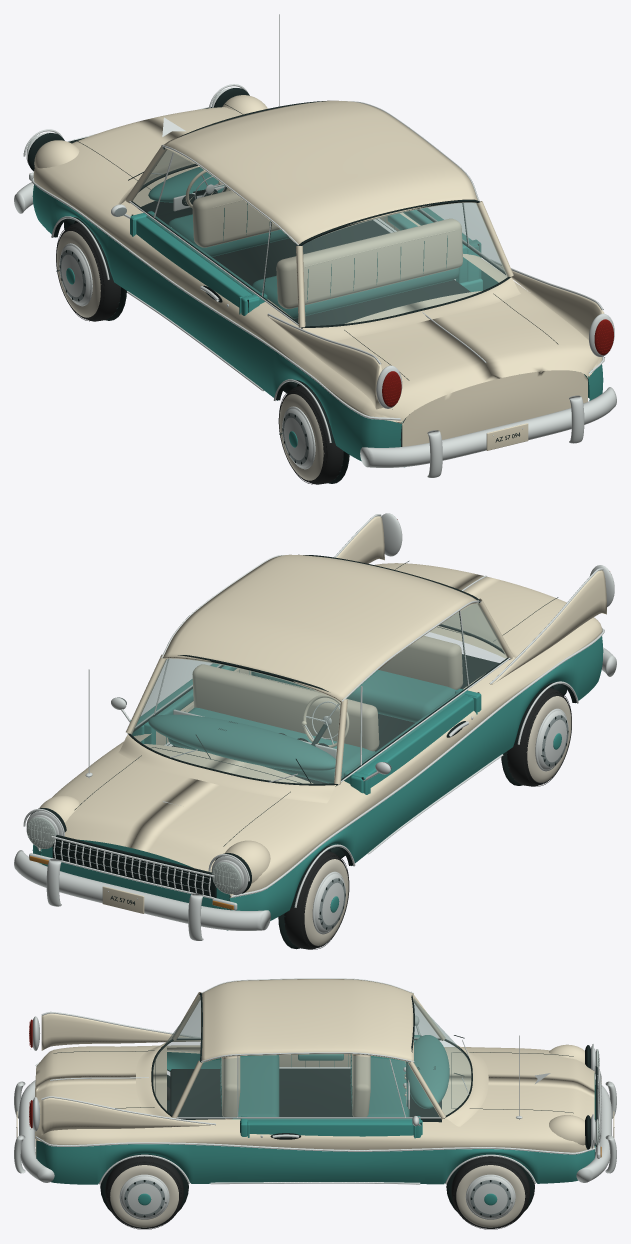
Rendered from car-interactive.glb.
3 views of the same model, one above another, from view 1: azimuth 30°, elevation 25°; view 2: azimuth 150°, elevation 25°; view 3: azimuth 270°, elevation 25° (orthographic). The views are drawn at different scales.
Parts seen in each view (by area): view 1: fixed Coachwork warm ivory lacquer, fixed Coachwork curved safety glass, fixed Coachwork polished chromium, fixed Coachwork ivory stitched vinyl, fixed Coachwork panel seals and shadows, door-left Coachwork curved safety glass, fixed Coachwork turquoise lacquer, door-left Coachwork turquoise lacquer, fixed Coachwork turquoise seat vinyl, fixed Coachwork vulcanized tire rubber, fixed Coachwork warm whitewall rubber, door-left Coachwork warm ivory lacquer (+5 smaller); view 2: fixed Coachwork warm ivory lacquer, fixed Coachwork curved safety glass, fixed Coachwork polished chromium, fixed Coachwork turquoise seat vinyl, fixed Coachwork turquoise lacquer, fixed Coachwork ivory stitched vinyl, door-left Coachwork curved safety glass, fixed Coachwork panel seals and shadows, door-left Coachwork turquoise lacquer, fixed Coachwork vulcanized tire rubber, fixed Coachwork warm whitewall rubber, door-left Coachwork warm ivory lacquer (+5 smaller); view 3: fixed Coachwork warm ivory lacquer, fixed Coachwork polished chromium, door-right Coachwork curved safety glass, fixed Coachwork turquoise lacquer, fixed Coachwork curved safety glass, fixed Coachwork panel seals and shadows, door-right Coachwork turquoise lacquer, fixed Coachwork turquoise seat vinyl, fixed Coachwork warm whitewall rubber, fixed Coachwork vulcanized tire rubber, door-right Coachwork warm ivory lacquer, fixed Coachwork ivory stitched vinyl (+6 smaller).
Boxes of the visible parts, x1,y1,x2,y2 form: fixed Coachwork warm ivory lacquer: (33, 95, 604, 450); fixed Coachwork curved safety glass: (143, 150, 508, 325); fixed Coachwork polished chromium: (14, 14, 616, 477); fixed Coachwork ivory stitched vinyl: (192, 190, 462, 308); fixed Coachwork panel seals and shadows: (28, 88, 558, 483); door-left Coachwork curved safety glass: (132, 148, 269, 295); fixed Coachwork turquoise lacquer: (32, 184, 603, 467); door-left Coachwork turquoise lacquer: (122, 217, 259, 372); fixed Coachwork turquoise seat vinyl: (148, 167, 459, 318); fixed Coachwork vulcanized tire rubber: (56, 222, 343, 484); fixed Coachwork warm whitewall rubber: (56, 231, 324, 480); door-left Coachwork warm ivory lacquer: (123, 228, 270, 328); fixed Coachwork warm ivory lacquer: (39, 516, 606, 913); fixed Coachwork curved safety glass: (130, 602, 507, 783); fixed Coachwork polished chromium: (14, 513, 616, 940); fixed Coachwork turquoise seat vinyl: (148, 670, 456, 783); fixed Coachwork turquoise lacquer: (32, 636, 603, 930); fixed Coachwork ivory stitched vinyl: (192, 636, 462, 751); door-left Coachwork curved safety glass: (341, 612, 467, 778); fixed Coachwork panel seals and shadows: (30, 555, 576, 949); door-left Coachwork turquoise lacquer: (350, 694, 486, 850); fixed Coachwork vulcanized tire rubber: (284, 687, 571, 949); fixed Coachwork warm whitewall rubber: (304, 696, 571, 945); door-left Coachwork warm ivory lacquer: (341, 705, 485, 810); fixed Coachwork warm ivory lacquer: (16, 979, 614, 1157); fixed Coachwork polished chromium: (14, 978, 616, 1219); door-right Coachwork curved safety glass: (238, 1054, 439, 1116); fixed Coachwork turquoise lacquer: (36, 1035, 595, 1205); fixed Coachwork curved safety glass: (153, 996, 471, 1116); fixed Coachwork panel seals and shadows: (53, 993, 597, 1217); door-right Coachwork turquoise lacquer: (237, 1120, 424, 1179); fixed Coachwork turquoise seat vinyl: (220, 1035, 449, 1119); fixed Coachwork warm whitewall rubber: (110, 1165, 525, 1227); fixed Coachwork vulcanized tire rubber: (105, 1086, 529, 1229); door-right Coachwork warm ivory lacquer: (237, 1119, 424, 1149); fixed Coachwork ivory stitched vinyl: (221, 1054, 370, 1119).
Size of the model in its own units: 2.29 by 1.88 by 5.51.
